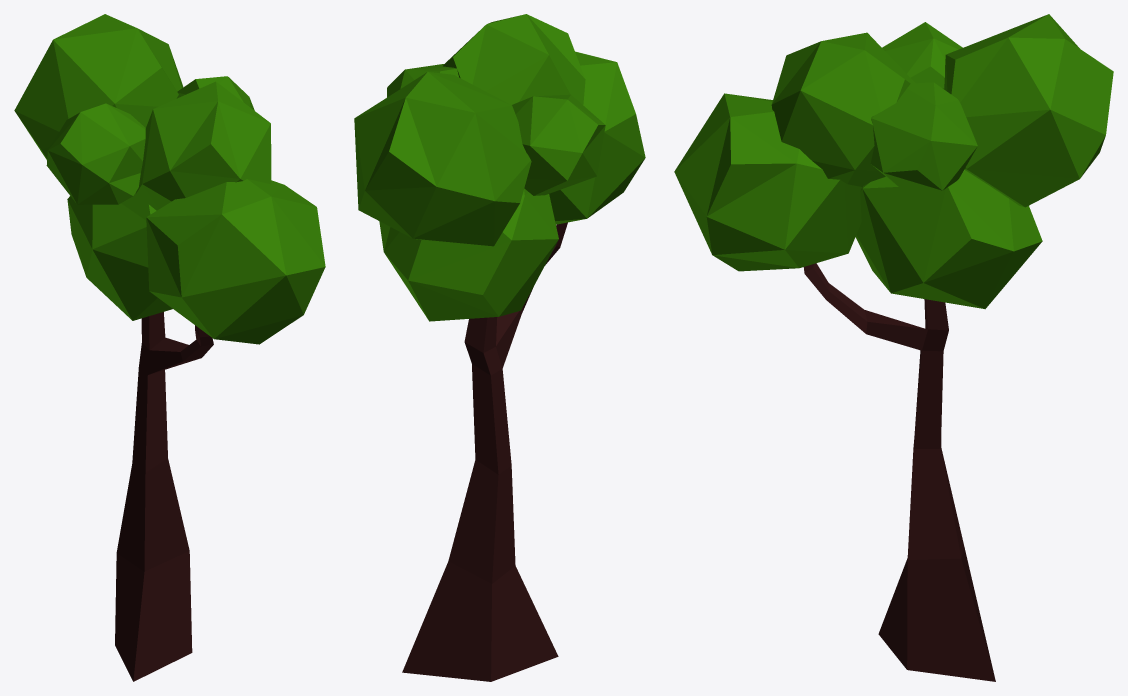
The model's file is treeThree.FBX.
The picture shows the model from 3 angles, left to right: view 1: azimuth 30°, elevation 25°; view 2: azimuth 150°, elevation 25°; view 3: azimuth 270°, elevation 25°; orthographic projection. The views are drawn at different scales.
Parts seen in each view (by area): view 1: Top04, bottom03, Top08, Top05, Top06, Top03, Top07; view 2: bottom03, Top08, Top03, Top05, Top04, Top06, Top07; view 3: Top08, Top04, bottom03, Top03, Top05, Top07, Top06.
Part boxes in pixels (x1,y1,x2,y2): Top04: [146, 179, 325, 344]; bottom03: [115, 312, 213, 681]; Top08: [14, 14, 183, 159]; Top05: [136, 81, 271, 210]; Top06: [46, 103, 145, 204]; Top03: [67, 192, 172, 320]; Top07: [176, 76, 254, 110]; bottom03: [402, 222, 567, 681]; Top08: [354, 72, 531, 246]; Top03: [379, 188, 558, 321]; Top05: [443, 14, 585, 104]; Top04: [549, 51, 645, 224]; Top06: [512, 94, 605, 195]; Top07: [387, 64, 458, 97]; Top08: [944, 14, 1113, 207]; Top04: [674, 93, 862, 271]; bottom03: [803, 263, 995, 681]; Top03: [855, 170, 1042, 309]; Top05: [771, 32, 915, 186]; Top07: [870, 82, 977, 190]; Top06: [882, 22, 962, 89].
Size of the model in its own units: 44.59 by 126 by 79.79.
